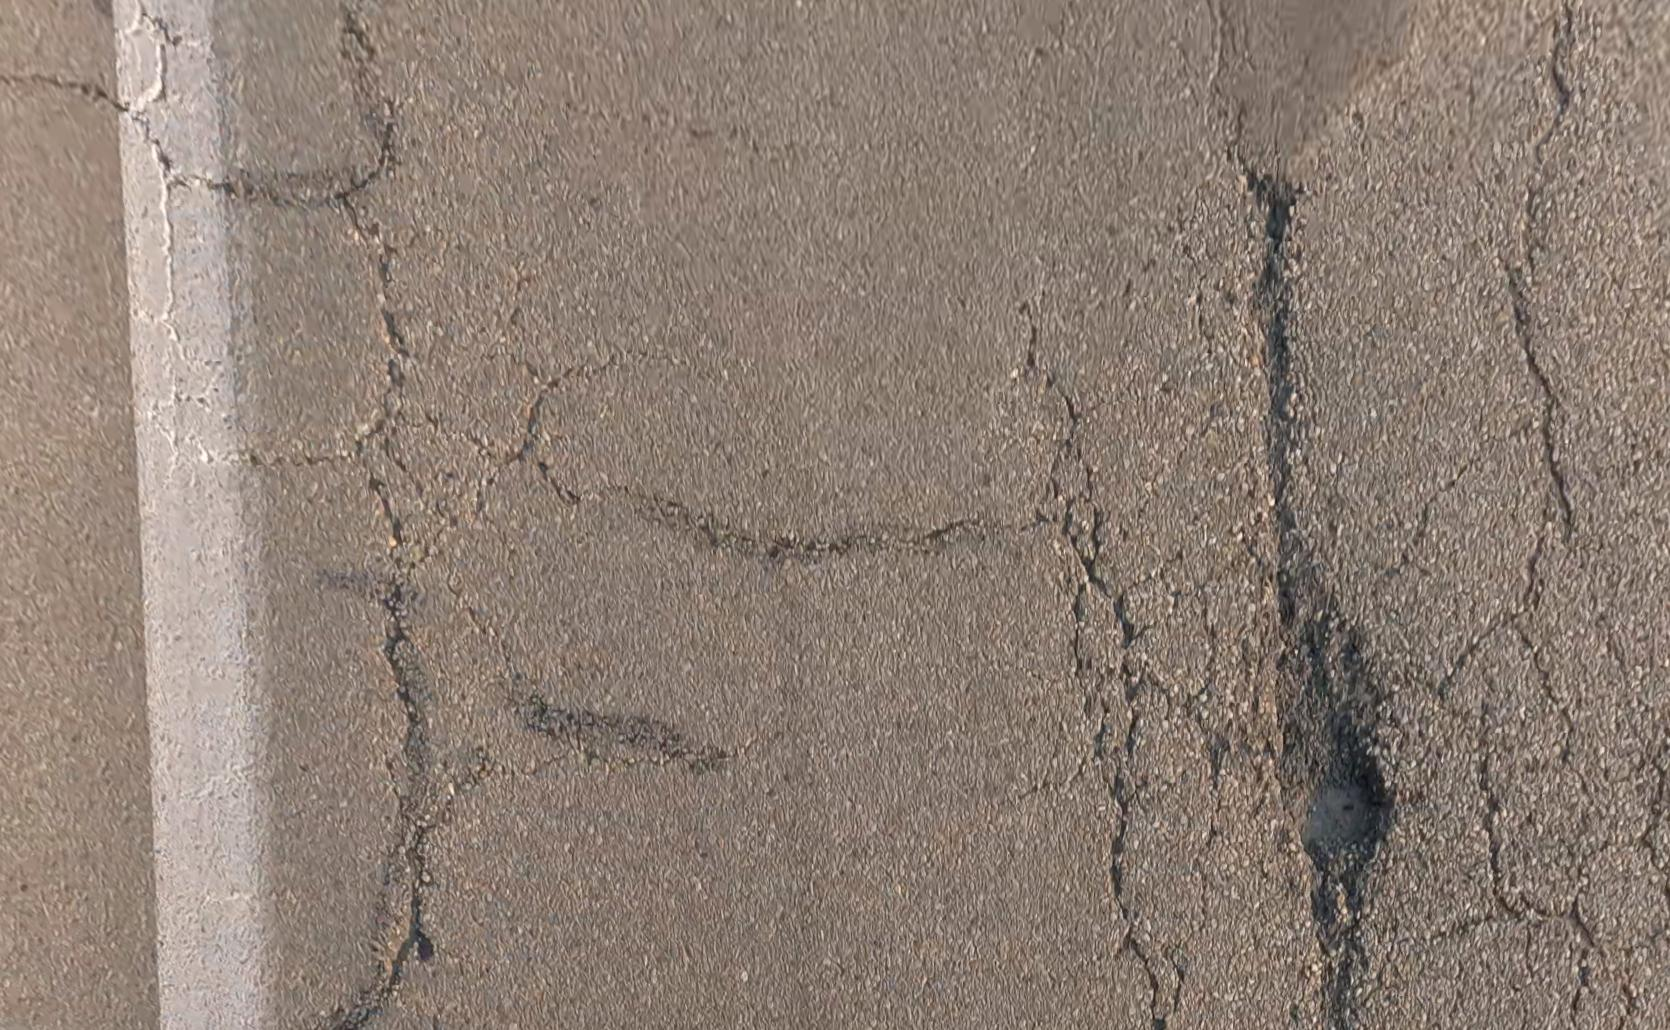pothole: (1262, 578, 1385, 878)
